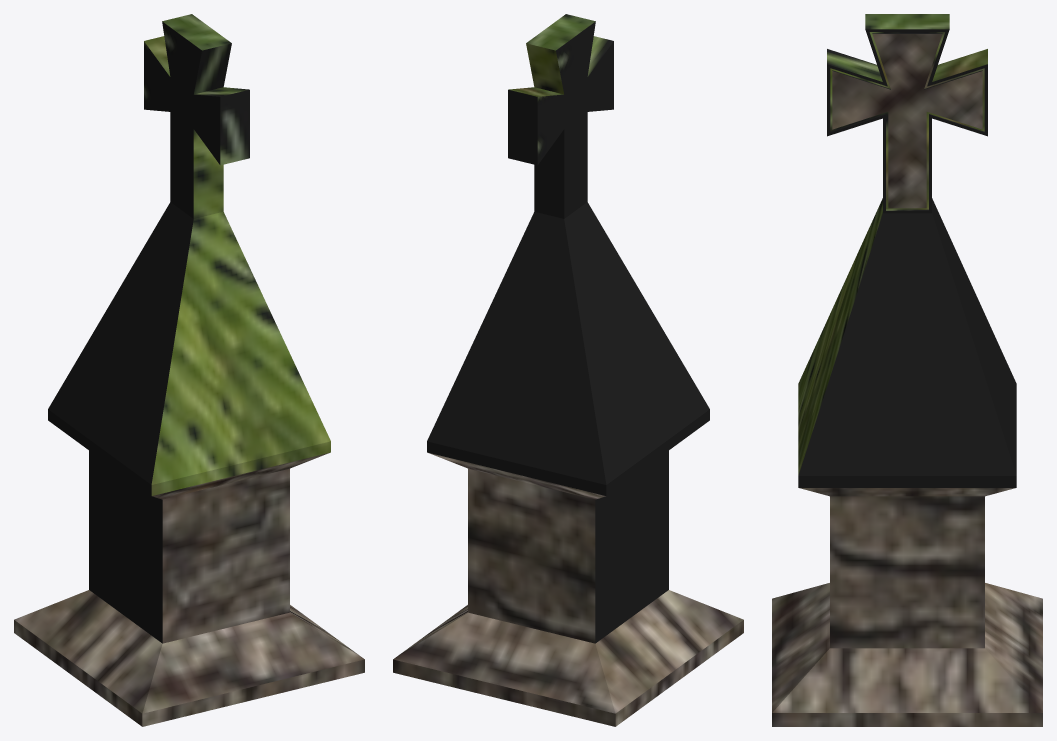
File: tumba.gltf
The picture shows the model from 3 angles, left to right: view 1: azimuth 30°, elevation 25°; view 2: azimuth 150°, elevation 25°; view 3: azimuth 270°, elevation 25°; orthographic projection. The views are drawn at different scales.
Parts seen in each view (by area): view 1: Peak1.002; view 2: Peak1.002; view 3: Peak1.002.
Part boxes in pixels (x1,y1,x2,y2): Peak1.002: [14, 14, 364, 726]; Peak1.002: [393, 14, 743, 726]; Peak1.002: [772, 14, 1042, 726].
Bounding box in the file's own units: 0.4258 × 1.13 × 0.4258.
